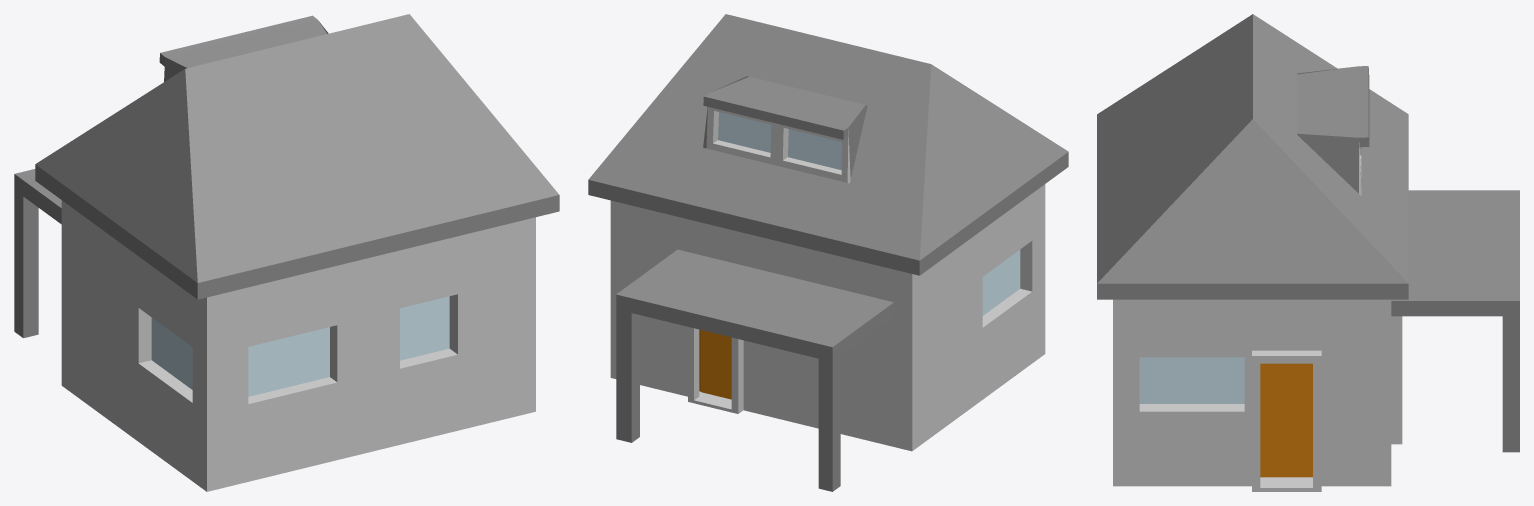
The model's file is house2.fbx.
3 renders of one model, left to right at view 1: azimuth 30°, elevation 25°; view 2: azimuth 150°, elevation 25°; view 3: azimuth 270°, elevation 25°, orthographic. The views are drawn at different scales.
Parts seen in each view (by area): view 1: Cube; view 2: Cube; view 3: Cube.
Part boxes in pixels (<box>): Cube: <box>14,14,559,491</box>; Cube: <box>588,14,1068,491</box>; Cube: <box>1097,14,1519,491</box>.
Bounding box in the file's own units: 93.46 × 88.22 × 98.68.
